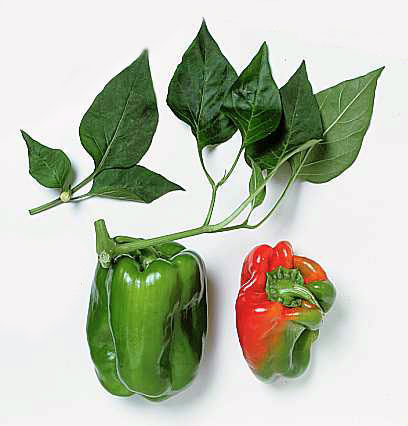capsicum: (86, 236, 206, 401), (235, 239, 333, 385)
